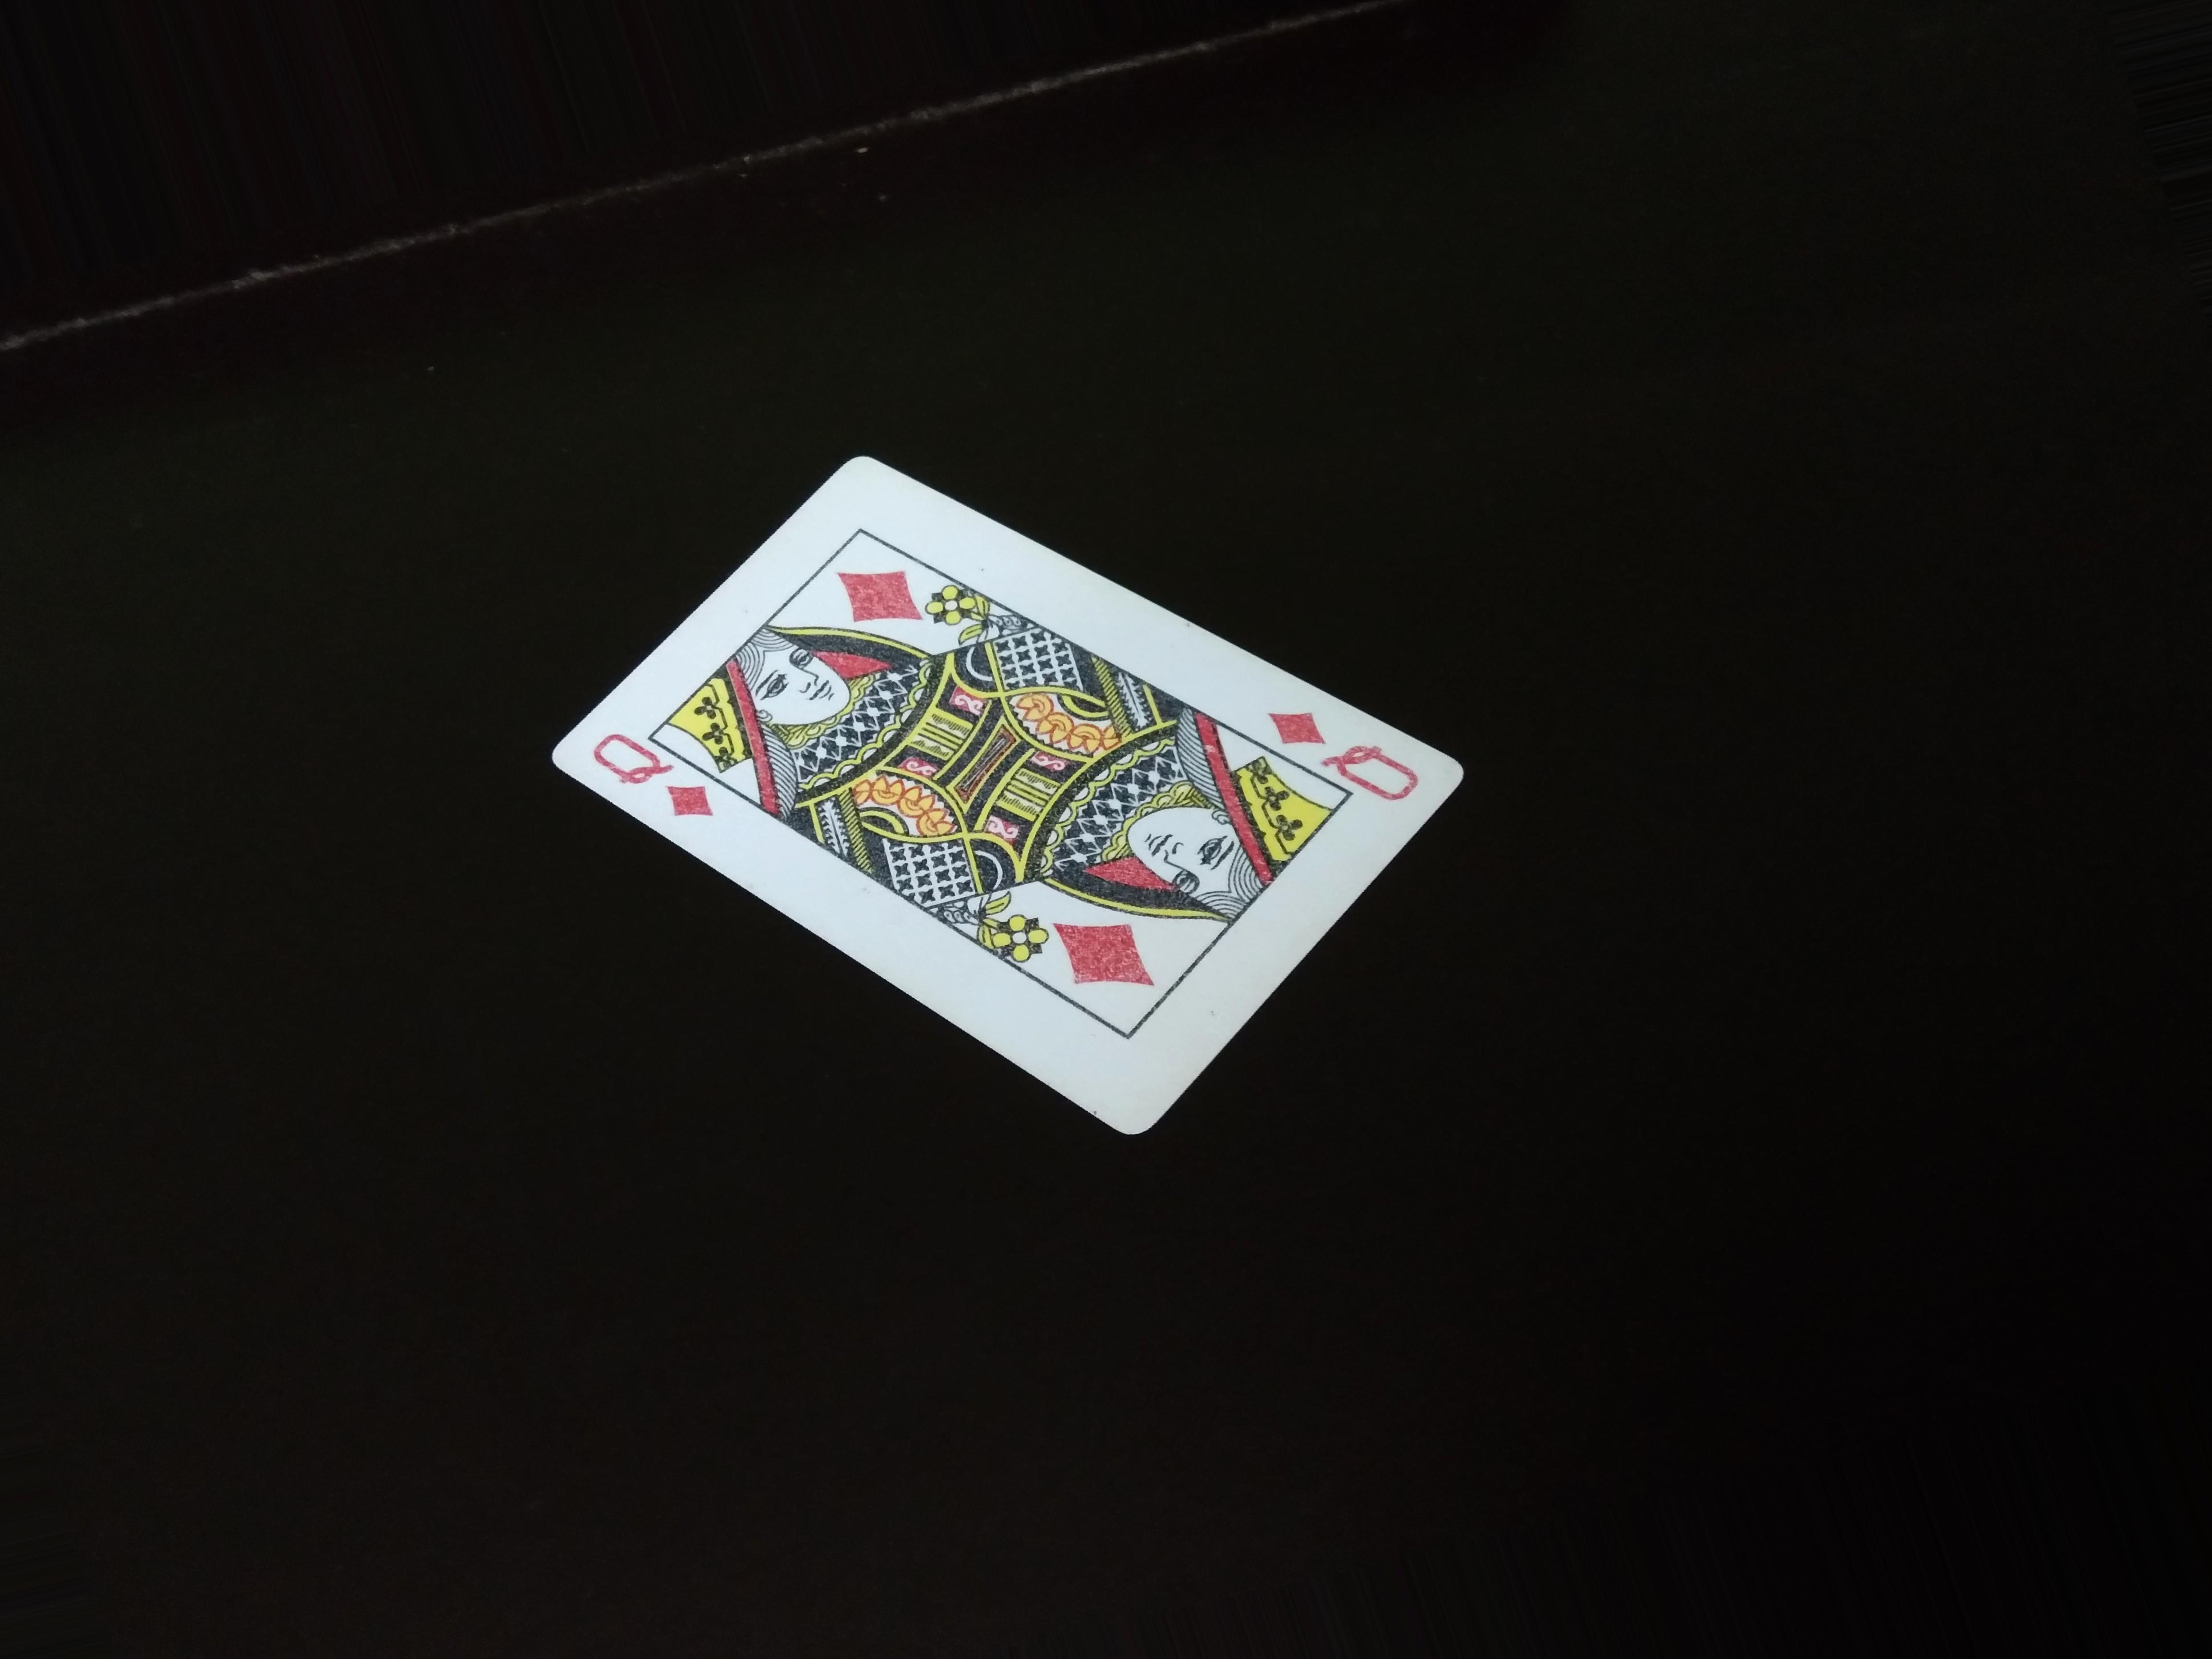QD: (564, 714, 712, 828)
